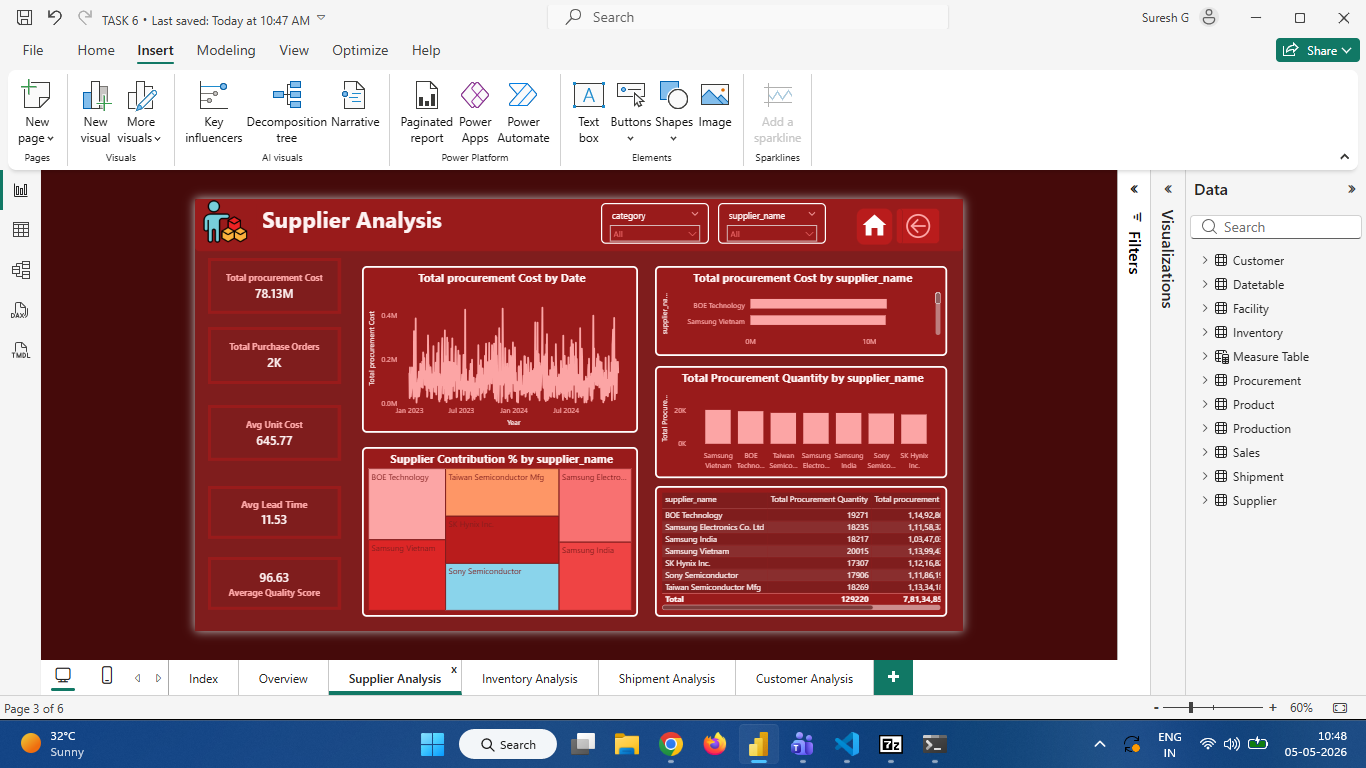

The dashboard page shown, as its layout file describes it:
{"tool":"powerbi","page":{"name":"Supplier Analysis","canvas":[1280,720],"ordinal":2},"visuals":[{"type":"textbox","box":[0,0,1280,86.7],"z":0},{"type":"cardVisual","fields":{"Data":["Measure Table.Total procurement Cost"]},"box":[21.7,98.3,221.7,93.3],"z":1},{"type":"cardVisual","fields":{"Data":["Measure Table.Total Purchase Orders"]},"box":[21.7,213.3,221.7,95],"z":2},{"type":"cardVisual","fields":{"Data":["Measure Table.Avg Unit Cost"]},"box":[21.7,343.3,221.7,93.3],"z":3},{"type":"cardVisual","fields":{"Data":["Measure Table.Avg Lead Time"]},"box":[21.7,478.3,221.7,88.3],"z":4},{"type":"cardVisual","fields":{"Data":["Measure Table.Average Quality Score"]},"box":[21.7,596.7,221.7,88.3],"z":5},{"type":"slicer","fields":{"Values":["Product.category"]},"box":[676.7,6.7,180,68.3],"z":6},{"type":"slicer","fields":{"Values":["Supplier.supplier_name"]},"box":[871.7,6.7,180,68.3],"z":7},{"type":"clusteredBarChart","fields":{"Y":["Measure Table.Total procurement Cost"],"Category":["Supplier.supplier_name"]},"box":[766.7,111.7,486.7,150],"z":8},{"type":"treemap","fields":{"Group":["Supplier.supplier_name"],"Values":["Measure Table.Supplier Contribution %"]},"box":[278.3,413.3,460,283.3],"z":9},{"type":"lineChart","title":"Total procurement Cost by Date","fields":{"Y":["Measure Table.Total procurement Cost"],"Category":["Datetable.date.Variation.Date Hierarchy.Year","Datetable.date.Variation.Date Hierarchy.Quarter","Datetable.date.Variation.Date Hierarchy.Month","Datetable.date.Variation.Date Hierarchy.Day"]},"box":[278.3,111.7,460,278.3],"z":10},{"type":"clusteredColumnChart","fields":{"Category":["Supplier.supplier_name"],"Y":["Measure Table.Total Procurement Quantity"]},"box":[766.7,278.3,486.7,186.7],"z":11},{"type":"tableEx","fields":{"Values":["Supplier.supplier_name","Measure Table.Total Procurement Quantity","Measure Table.Total procurement Cost","Measure Table.Avg Cost Per Unit"]},"box":[766.7,478.3,486.7,218.3],"z":12},{"type":"image","box":[0,0,101.7,75],"z":13},{"type":"actionButton","box":[1168.3,15,73.3,60],"z":14},{"type":"image","box":[1085,15,95,61.7],"z":15}]}

Visuals, with their boxes on the page's 1280x720 design canvas (x1, y1, x2, y2). These are canvas units, not pixel positions in the 1366x768 screenshot, which may show the page scaled, cropped or inside an application window:
textbox: [0,0,1280,87]
cardVisual - Measure Table.Total procurement Cost: [22,98,243,192]
cardVisual - Measure Table.Total Purchase Orders: [22,213,243,308]
cardVisual - Measure Table.Avg Unit Cost: [22,343,243,437]
cardVisual - Measure Table.Avg Lead Time: [22,478,243,567]
cardVisual - Measure Table.Average Quality Score: [22,597,243,685]
slicer - Product.category: [677,7,857,75]
slicer - Supplier.supplier_name: [872,7,1052,75]
clusteredBarChart - Measure Table.Total procurement Cost x Supplier.supplier_name: [767,112,1253,262]
treemap - Supplier.supplier_name x Measure Table.Supplier Contribution %: [278,413,738,697]
"Total procurement Cost by Date" lineChart: [278,112,738,390]
clusteredColumnChart - Supplier.supplier_name x Measure Table.Total Procurement Quantity: [767,278,1253,465]
tableEx - Supplier.supplier_name x Measure Table.Total Procurement Quantity: [767,478,1253,697]
image: [0,0,102,75]
actionButton: [1168,15,1242,75]
image: [1085,15,1180,77]
